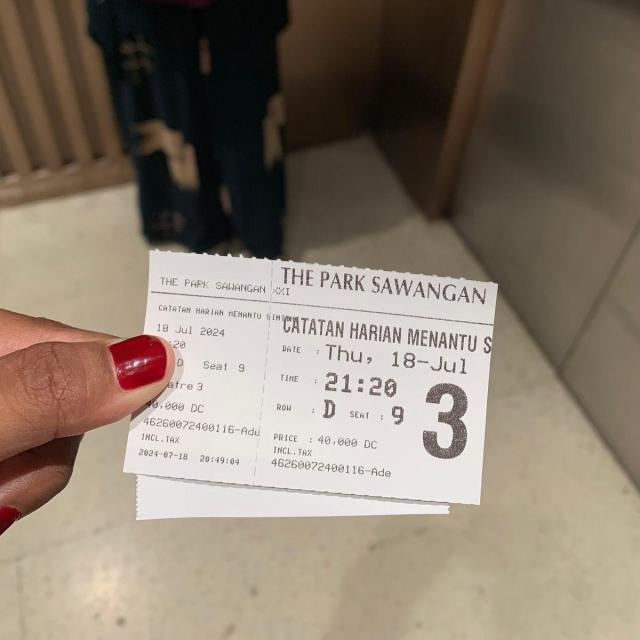date: (151, 324, 230, 343)
store: (276, 264, 500, 305)
total: (264, 428, 390, 452)
